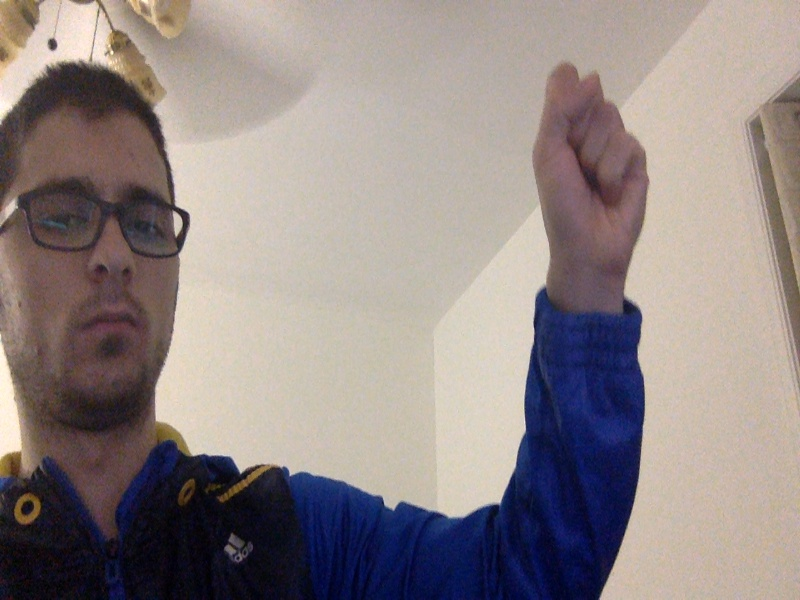0-hand: (531, 61, 650, 265)
